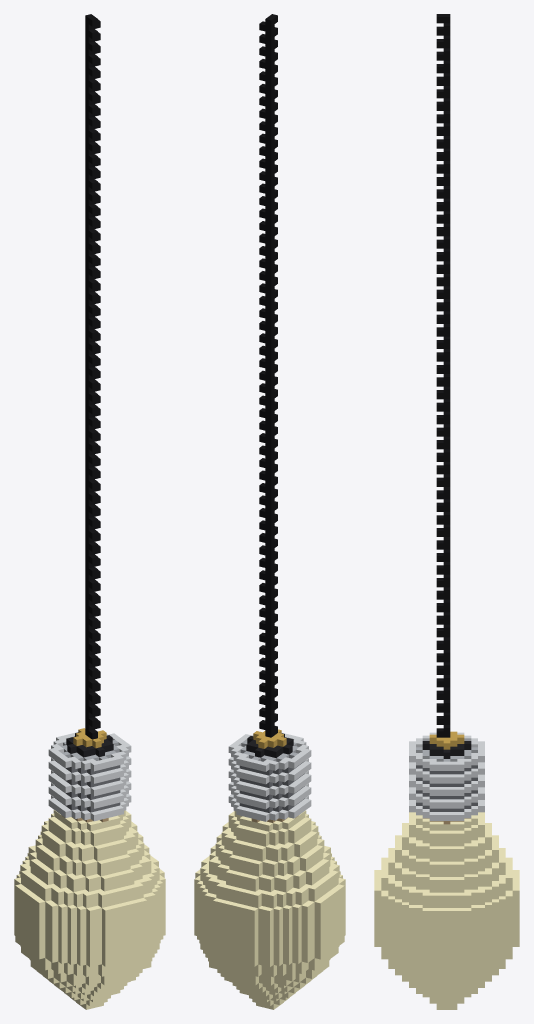
The model's file is bulb.obj.
3 renders of one model, left to right at view 1: azimuth 30°, elevation 25°; view 2: azimuth 150°, elevation 25°; view 3: azimuth 270°, elevation 25°, orthographic.
Visible parts, largest first — view 1: bulb_glow, cord_socket; view 2: bulb_glow, cord_socket; view 3: bulb_glow, cord_socket.
Part boxes in pixels (x1,y1,x2,y2): bulb_glow: (14,810,165,1009); cord_socket: (48,14,131,822); bulb_glow: (194,810,345,1009); cord_socket: (228,14,311,822); bulb_glow: (374,812,519,1009); cord_socket: (409,14,484,824).
Bounding box in the file's own units: 2.1 × 15.8 × 2.1.
2 materials, 2 textured.
